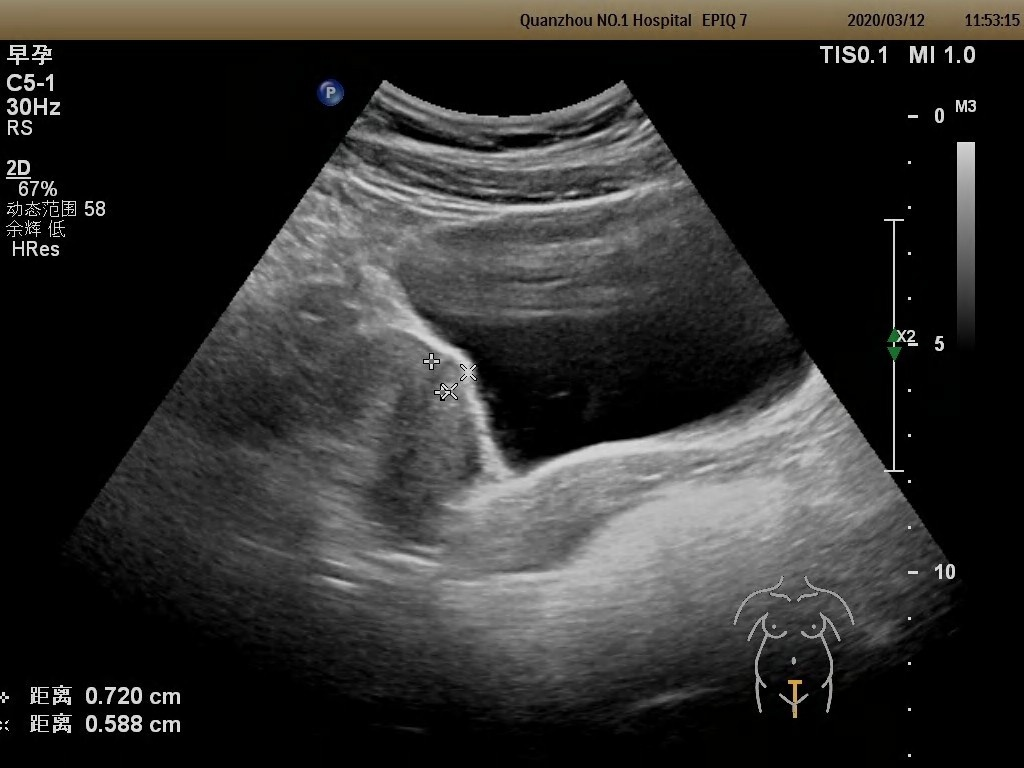肌瘤: (440, 362, 460, 388)
